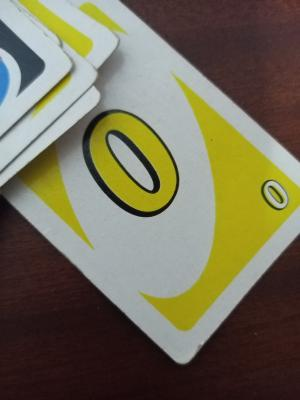num_0: (81, 105, 193, 256), (221, 172, 298, 219)
